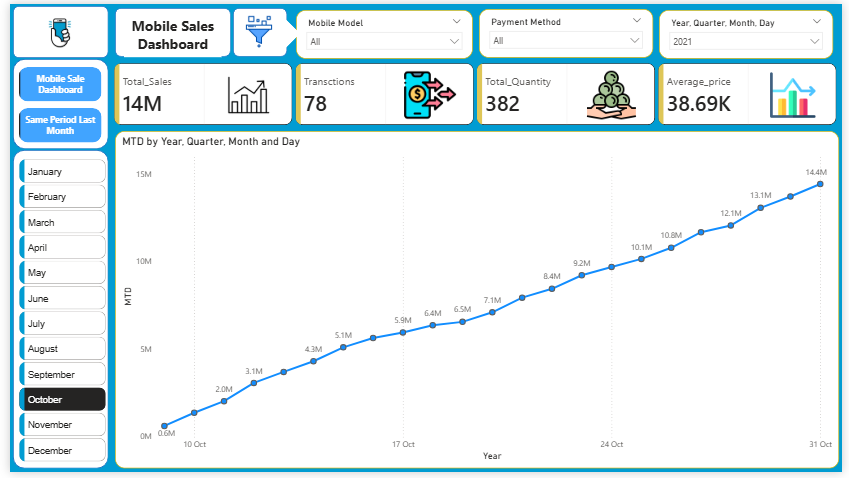

What the dashboard file says about the page in this screenshot:
{"tool":"powerbi","page":{"name":"MTD Report","canvas":[1280,720],"ordinal":1},"visuals":[{"type":"shape","box":[5,3.3,146.7,80],"z":0},{"type":"image","box":[48.3,18.3,60,50],"z":1000},{"type":"shape","box":[5,85,146.7,138.3],"z":2000},{"type":"cardVisual","fields":{"Data":["Mobile_Sales_data.Total_Sales","Mobile_Sales_data.Transctions","Mobile_Sales_data.Total_Quantity","Mobile_Sales_data.Average_price"]},"box":[151.7,83.6,1128.2,112],"z":3000},{"type":"slicer","fields":{"Values":["Mobile_Sales_data.Mobile Model"]},"box":[439.4,8.5,272.1,75.1],"z":4000},{"type":"slicer","fields":{"Values":["Mobile_Sales_data.Payment Method"]},"box":[721.4,7.1,267.9,75.1],"z":5000},{"type":"shape","box":[343.3,6.7,83.3,75],"z":6000},{"type":"shape","box":[400,23.3,46.7,45],"z":7000},{"type":"image","box":[343.3,5,80,75],"z":8000},{"type":"shape","box":[161.7,6.7,178,75],"z":9000},{"type":"textbox","box":[175,13.3,150,68.3],"z":10000},{"type":"lineChart","fields":{"Category":["Custom_Calendar.Date.Variation.Date Hierarchy.Year","Custom_Calendar.Date.Variation.Date Hierarchy.Quarter","Custom_Calendar.Date.Variation.Date Hierarchy.Month","Custom_Calendar.Date.Variation.Date Hierarchy.Day"],"Y":["Mobile_Sales_data.MTD"]},"box":[161.6,195.6,1114,518.7],"z":11000},{"type":"shape","box":[5,225,146.7,490],"z":12000},{"type":"advancedSlicerVisual","fields":{"Values":["Custom_Calendar.Date.Variation.Date Hierarchy.Month"]},"box":[8.5,233.9,143.1,477.6],"z":13000},{"type":"slicer","fields":{"Values":["Custom_Calendar.Date.Variation.Date Hierarchy.Year","Custom_Calendar.Date.Variation.Date Hierarchy.Quarter","Custom_Calendar.Date.Variation.Date Hierarchy.Month","Custom_Calendar.Date.Variation.Date Hierarchy.Day"]},"box":[999.2,9.9,267.9,75.1],"z":14000},{"type":"pageNavigator","box":[14.2,96.4,127.6,116.2],"z":14001}]}

Visuals, with their boxes in screenshot pixels (x1, y1, x2, y2), scaled from the page's 1280x720 canvas onto the 849x478 screenshot:
shape: x1=3 y1=2 x2=101 y2=55
image: x1=32 y1=12 x2=72 y2=45
shape: x1=3 y1=56 x2=101 y2=148
cardVisual - Mobile_Sales_data.Total_Sales x Mobile_Sales_data.Transctions: x1=101 y1=56 x2=848 y2=130
slicer - Mobile_Sales_data.Mobile Model: x1=291 y1=6 x2=472 y2=56
slicer - Mobile_Sales_data.Payment Method: x1=478 y1=5 x2=656 y2=55
shape: x1=228 y1=4 x2=283 y2=54
shape: x1=265 y1=15 x2=296 y2=45
image: x1=228 y1=3 x2=281 y2=53
shape: x1=107 y1=4 x2=225 y2=54
textbox: x1=116 y1=9 x2=216 y2=54
lineChart - Custom_Calendar.Date.Variation.Date Hierarchy.Year x Custom_Calendar.Date.Variation.Date Hierarchy.Quarter: x1=107 y1=130 x2=846 y2=474
shape: x1=3 y1=149 x2=101 y2=475
advancedSlicerVisual - Custom_Calendar.Date.Variation.Date Hierarchy.Month: x1=6 y1=155 x2=101 y2=472
slicer - Custom_Calendar.Date.Variation.Date Hierarchy.Year x Custom_Calendar.Date.Variation.Date Hierarchy.Quarter: x1=663 y1=7 x2=840 y2=56
pageNavigator: x1=9 y1=64 x2=94 y2=141
